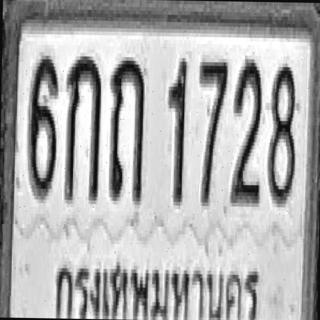A01: (64, 52, 101, 200)
A22: (108, 55, 145, 203)
N01: (166, 56, 187, 204)
N02: (230, 55, 262, 203)
N06: (26, 52, 58, 196)
N07: (197, 56, 228, 205)
N08: (267, 63, 296, 204)
P04: (53, 246, 260, 320)
